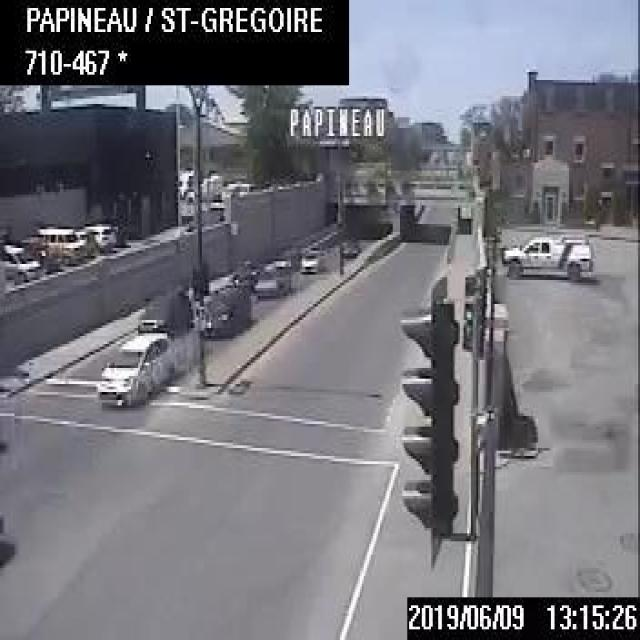vehicle: (93, 332, 181, 406), (498, 230, 591, 278), (202, 282, 249, 341), (137, 286, 197, 332), (36, 223, 88, 262), (0, 241, 38, 279), (252, 260, 291, 297), (84, 219, 120, 250), (300, 246, 324, 270)
